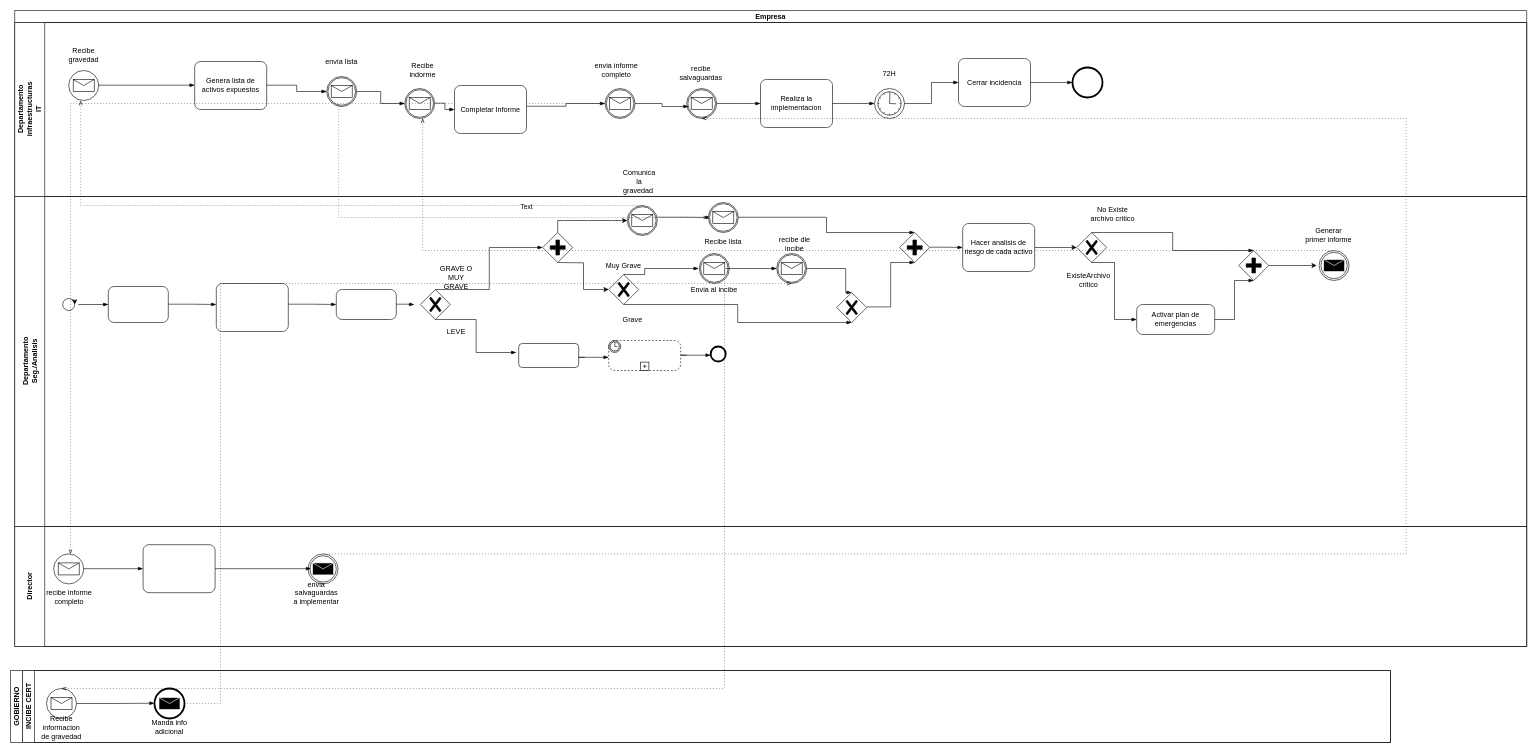
The diagram is 1537 pixels wide and 753 high, and some of its shapes have lost their labels. The shapes that lost their labels are listed below. From the top down, each one's centre as x and y in pixels, then its label:
At point 138,304: "Intrusion detectada".
At point 252,307: "Identificar parámetros, fecha, clasificación, IP, puerto".
At point 366,304: "determinar clasificacion".
At point 548,355: "Actualizar BD".
At point 644,355: "seguir durante 2 semanas".
At point 178,568: "calificar riesgo".
